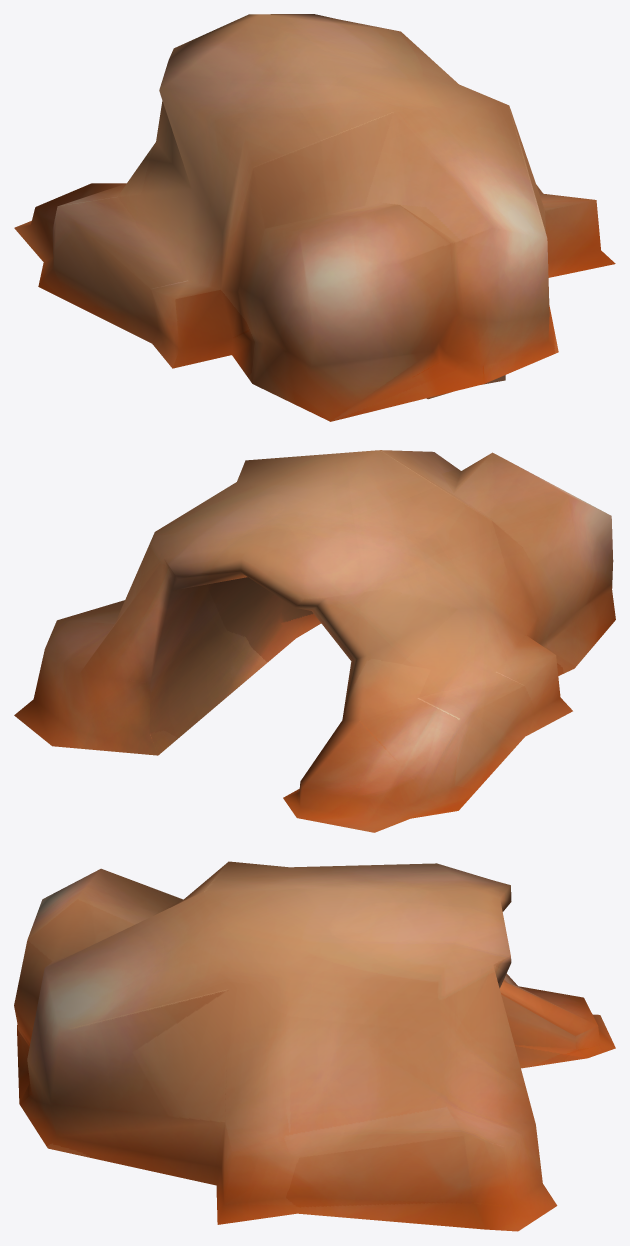
File: Cave_v1.fbx
3 views of the same model, one above another, from view 1: azimuth 30°, elevation 25°; view 2: azimuth 150°, elevation 25°; view 3: azimuth 270°, elevation 25° (orthographic). The views are drawn at different scales.
Visible parts, largest first — view 1: Cube; view 2: Cube; view 3: Cube.
Boxes of the visible parts, x1,y1,x2,y2 form: Cube: [14, 14, 615, 421]; Cube: [14, 450, 615, 832]; Cube: [14, 861, 615, 1231].
Size of the model in its own units: 5.32 by 2.55 by 6.03.
Materials: 1 (1 with a texture image).
